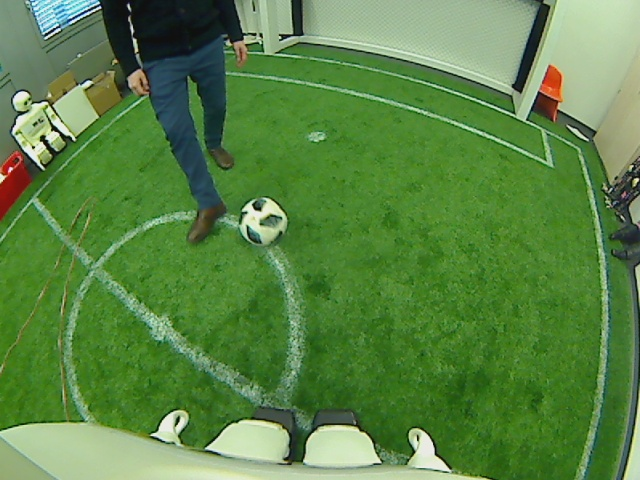ball: (236, 195, 287, 246)
